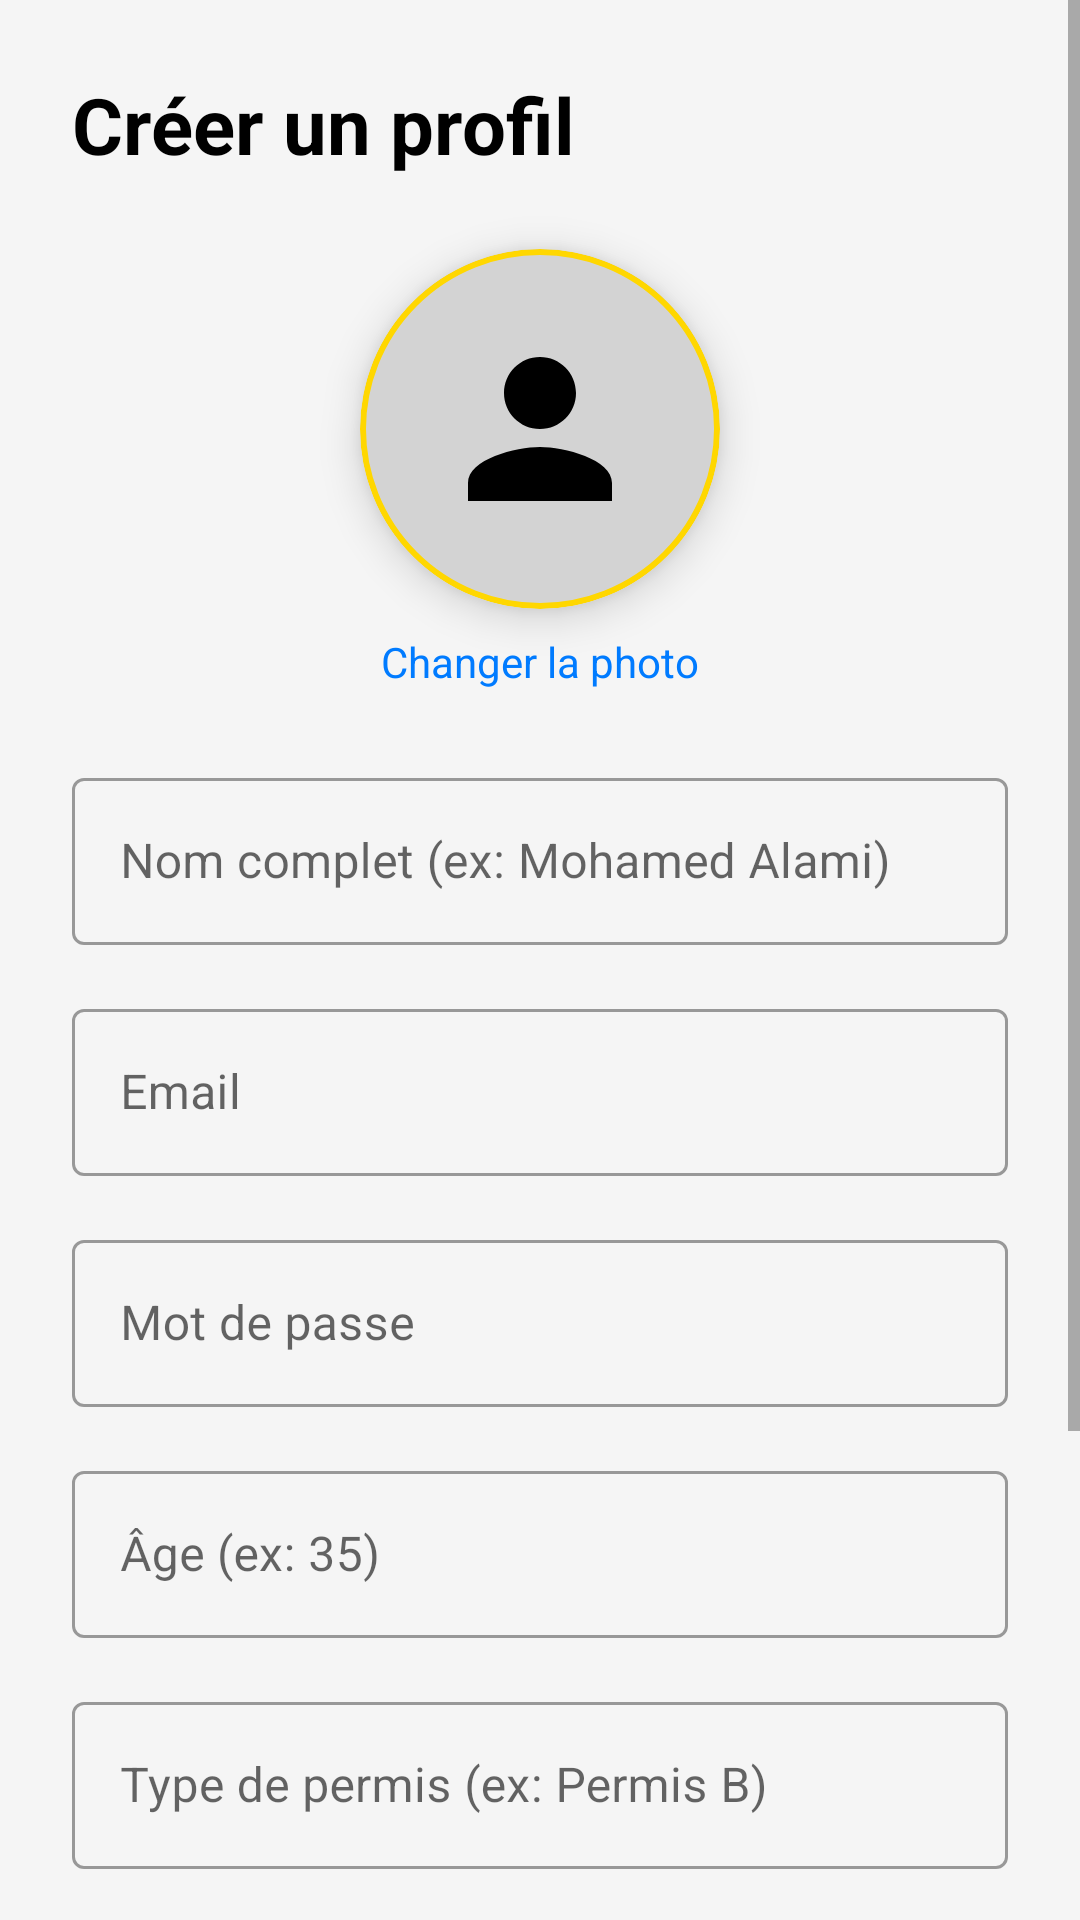

Named icons in this screenshot (1080px x 1920px) and their bounding boxes, [left=x1, top=y1, right=x2, bottom=y2]:
person: [left=360, top=249, right=720, bottom=609]
